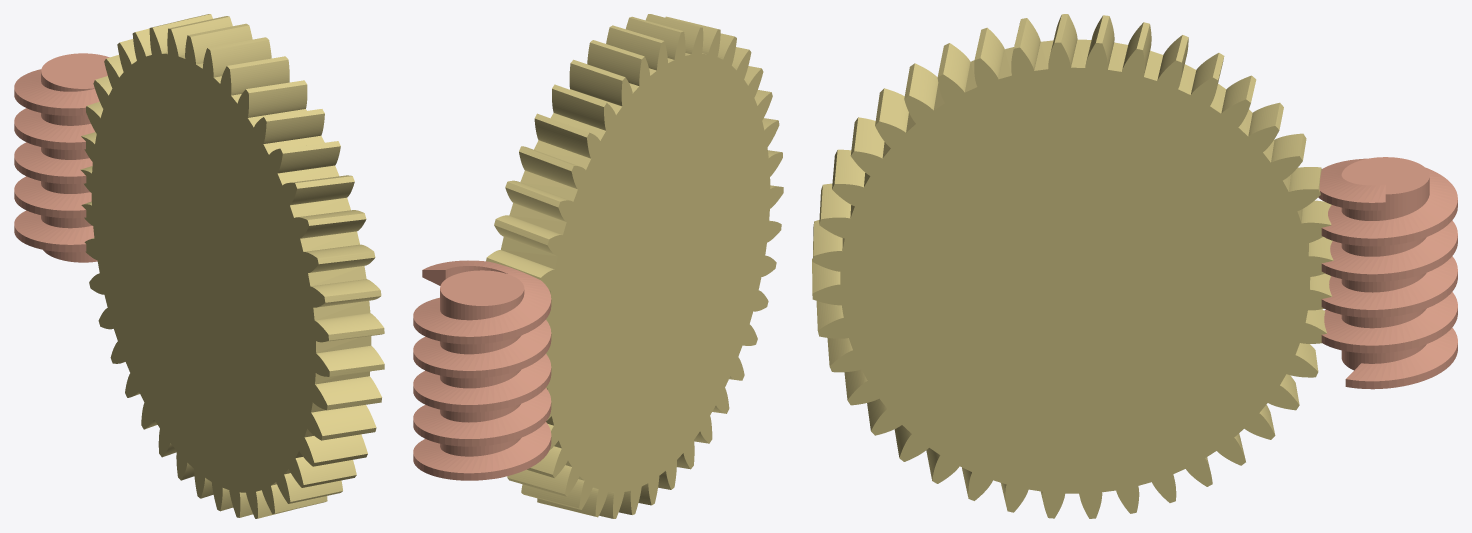
File: worm_demo.glb
3 views of the same model, side by side, from view 1: azimuth 30°, elevation 25°; view 2: azimuth 150°, elevation 25°; view 3: azimuth 270°, elevation 25° (orthographic). The views are drawn at different scales.
Parts seen in each view (by area): view 1: helical_wheel, worm; view 2: helical_wheel, worm; view 3: helical_wheel, worm.
Part boxes in pixels (x1,y1,x2,y2): helical_wheel: (80,14,384,518); worm: (14,53,109,262); helical_wheel: (486,14,783,518); worm: (413,260,551,480); helical_wheel: (812,14,1333,518); worm: (1318,157,1457,389).
Size of the model in its own units: 17.3 by 62.98 by 77.29.
